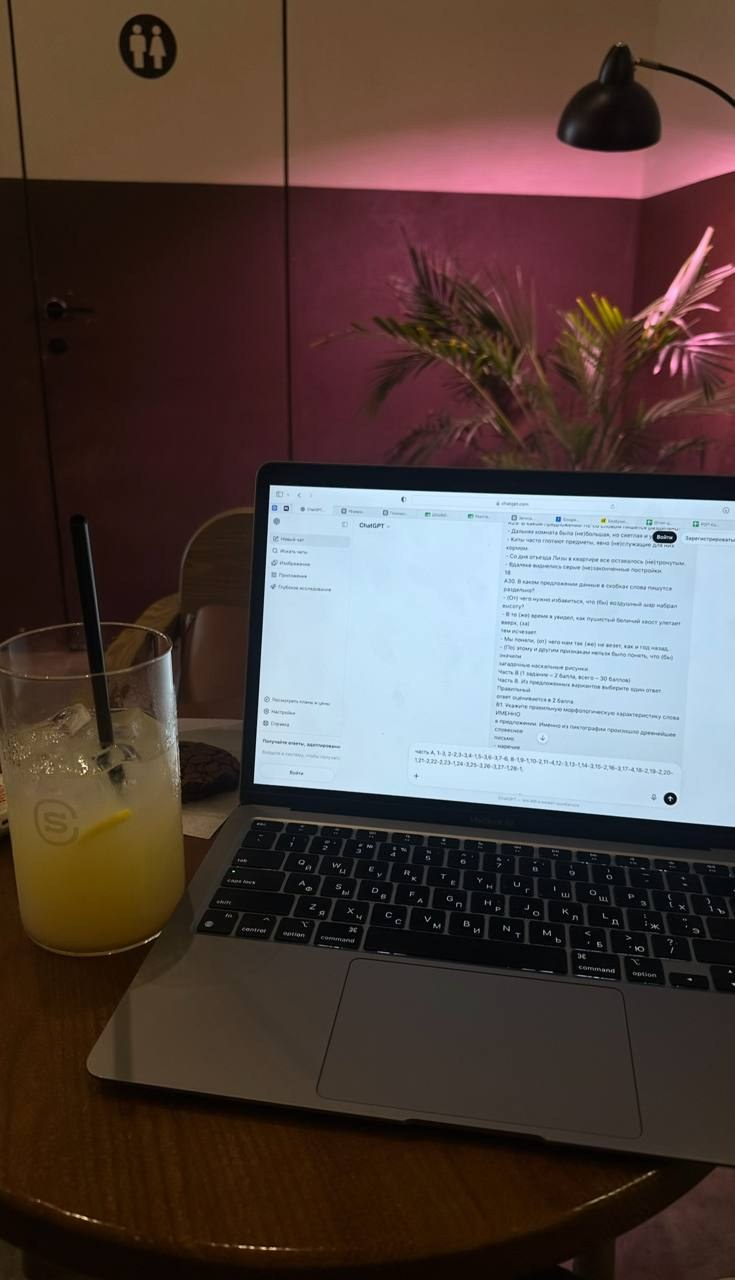laptop: (85, 459, 734, 1168)
